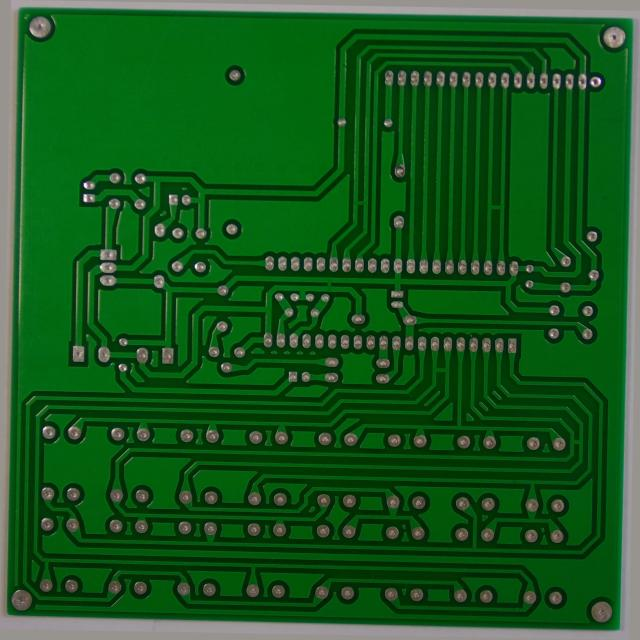short: (485, 194, 509, 212), (432, 362, 455, 376), (320, 275, 337, 292), (349, 193, 369, 207), (574, 432, 591, 447)
